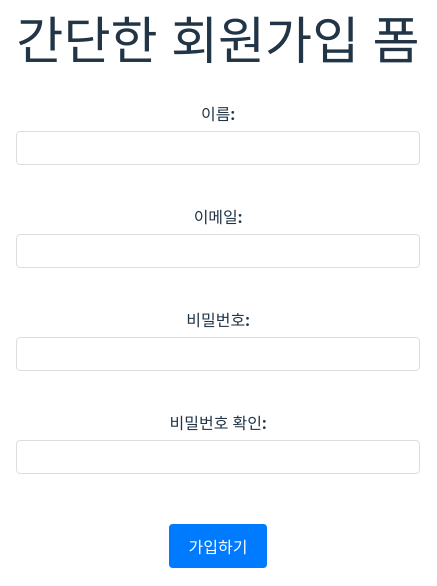
it: RegistrationFormWithProps - Props에 따른 동작 테스트 › 제출 중 상태 › 제출 중일 때 버튼 텍스트가 변경되고 비활성화된다
Note: 유효한 데이터 입력
Type "김철수" into the field with test id "name-input" at (218, 148), box [16,131,420,165]
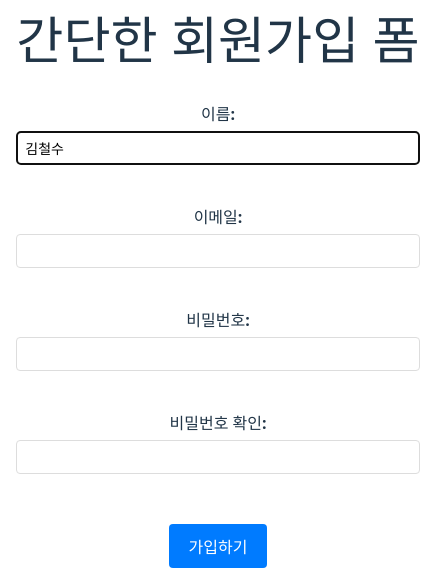
Type "test@example.com" into the field with test id "email-input" at (218, 251), box [16,234,420,268]
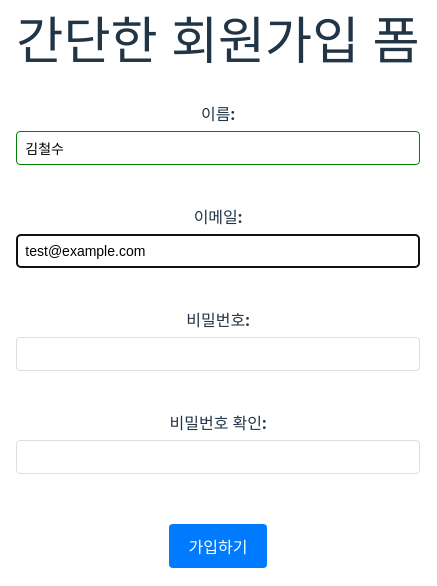
Type "Password123!" into the password field with test id "password-input" at (218, 354), box [16,337,420,371]
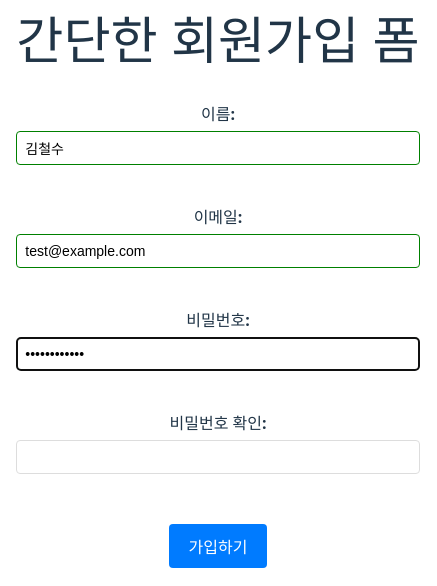
Type "Password123!" into the password field with test id "confirmPassword-input" at (218, 457), box [16,440,420,474]
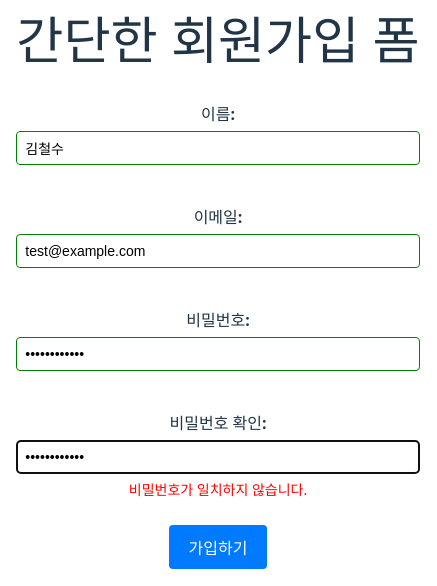
Note: 제출 버튼 클릭
Click the button with test id "submit-button" at (218, 547), box [168,525,267,569]
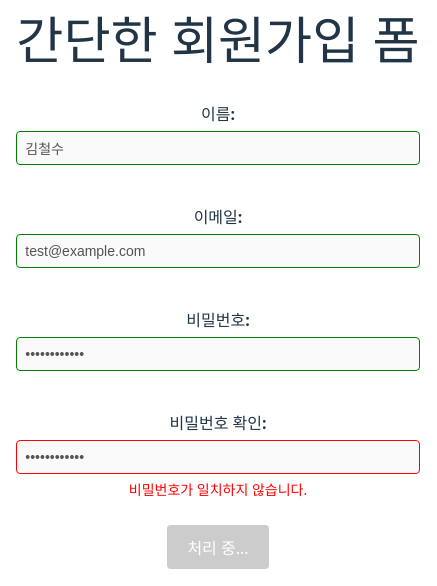
Check: the button with test id "submit-button" reads "처리 중...", box [167,525,269,569]
Check: the button with test id "submit-button" is disabled, box [167,525,269,569]
